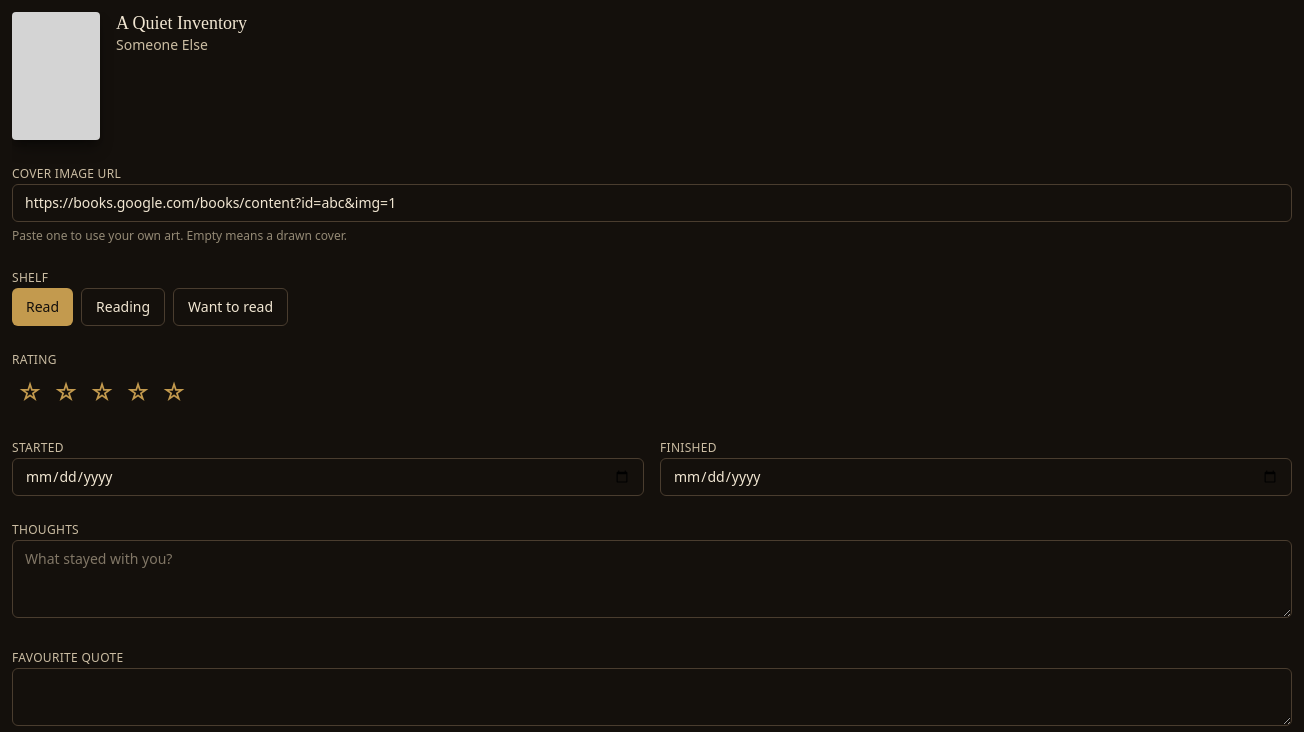
BookDetailsForm cover host warning › names the host the room cannot load from
The image size is (1304, 732).
Replace the text in the field labelled "Cover image URL" with "https://i.imgur.com/abc.jpg": (652, 203) left=12, top=184, right=1292, bottom=222
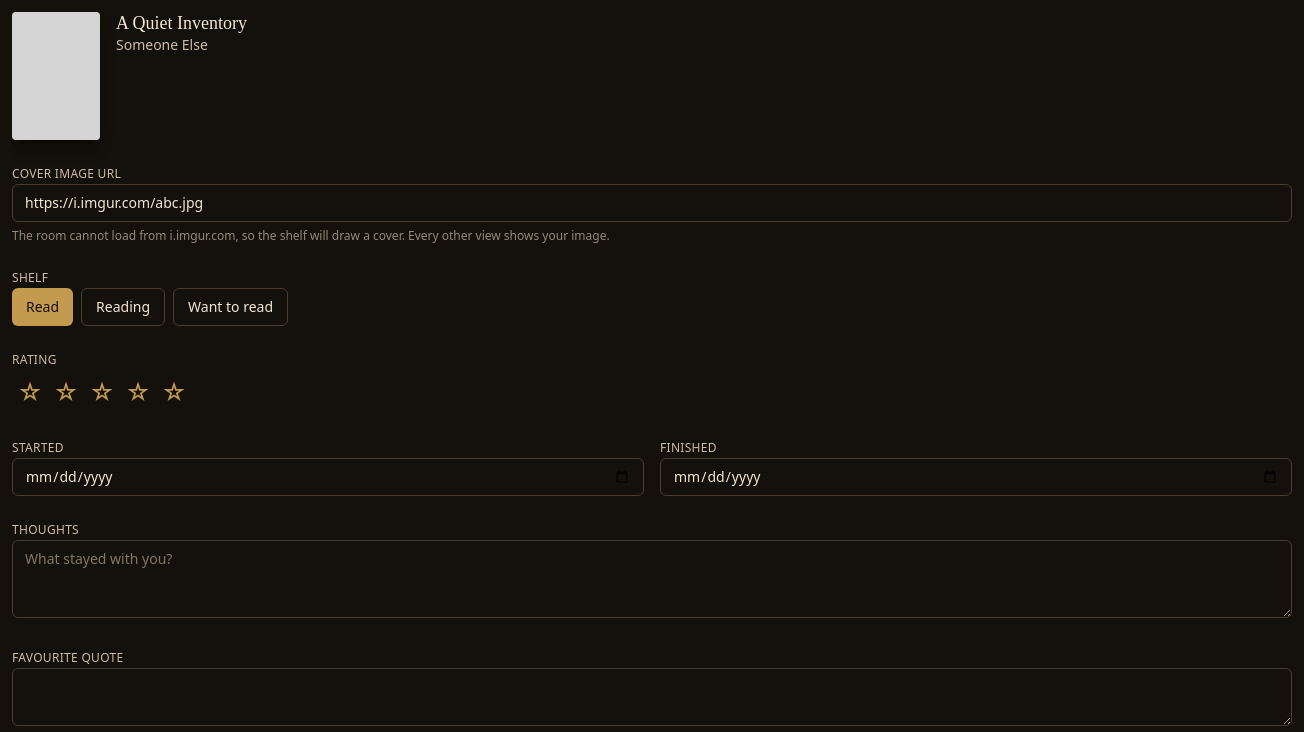
Expected: the text "shelf will draw a cover" is shown, left=12, top=227, right=610, bottom=244
